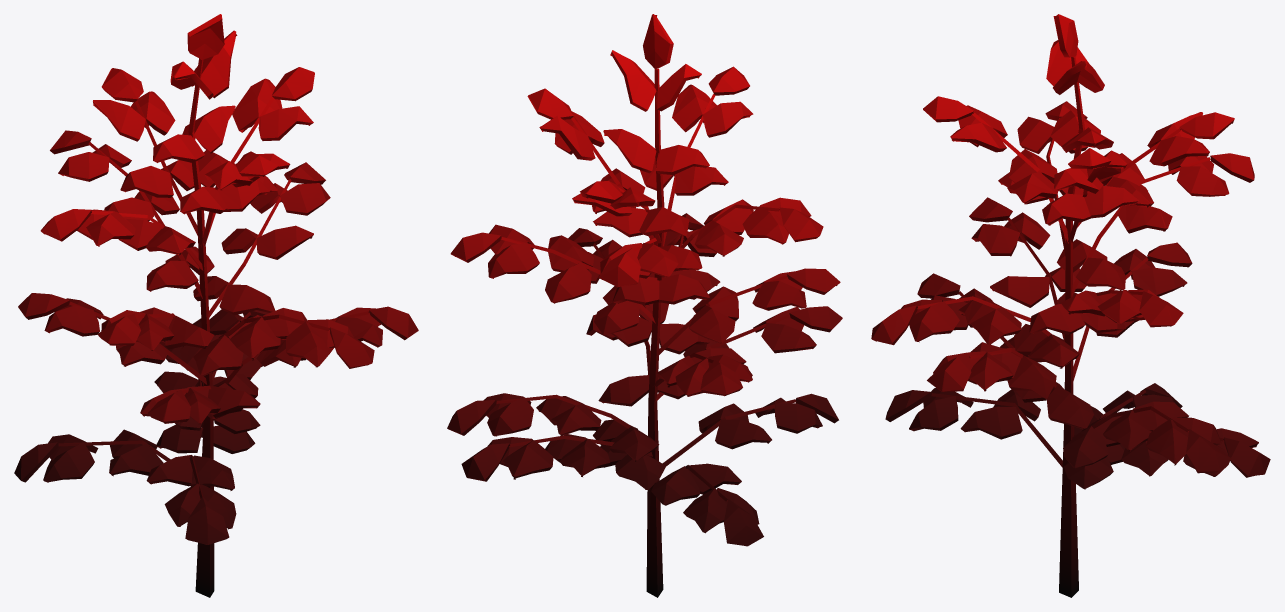
File: TreeWalnutSmall07.fbx
3 renders of one model, left to right at view 1: azimuth 30°, elevation 25°; view 2: azimuth 150°, elevation 25°; view 3: azimuth 270°, elevation 25°, orthographic.
Visible parts, largest first — view 1: TreeWalnutSmall07_LOD0; view 2: TreeWalnutSmall07_LOD0; view 3: TreeWalnutSmall07_LOD0.
Boxes of the visible parts, x1,y1,x2,y2 form: TreeWalnutSmall07_LOD0: [14, 14, 418, 597]; TreeWalnutSmall07_LOD0: [447, 14, 842, 597]; TreeWalnutSmall07_LOD0: [871, 14, 1270, 597].
Size of what is drawn, in the model's own units: 123 by 211 by 131.
